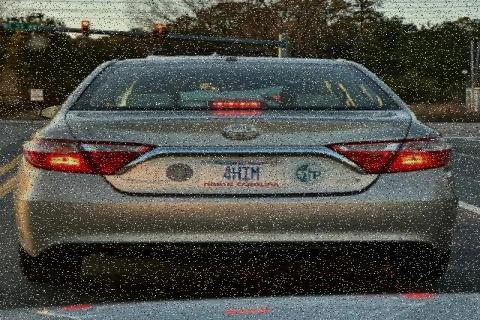LicensePlate: (197, 157, 283, 187)
